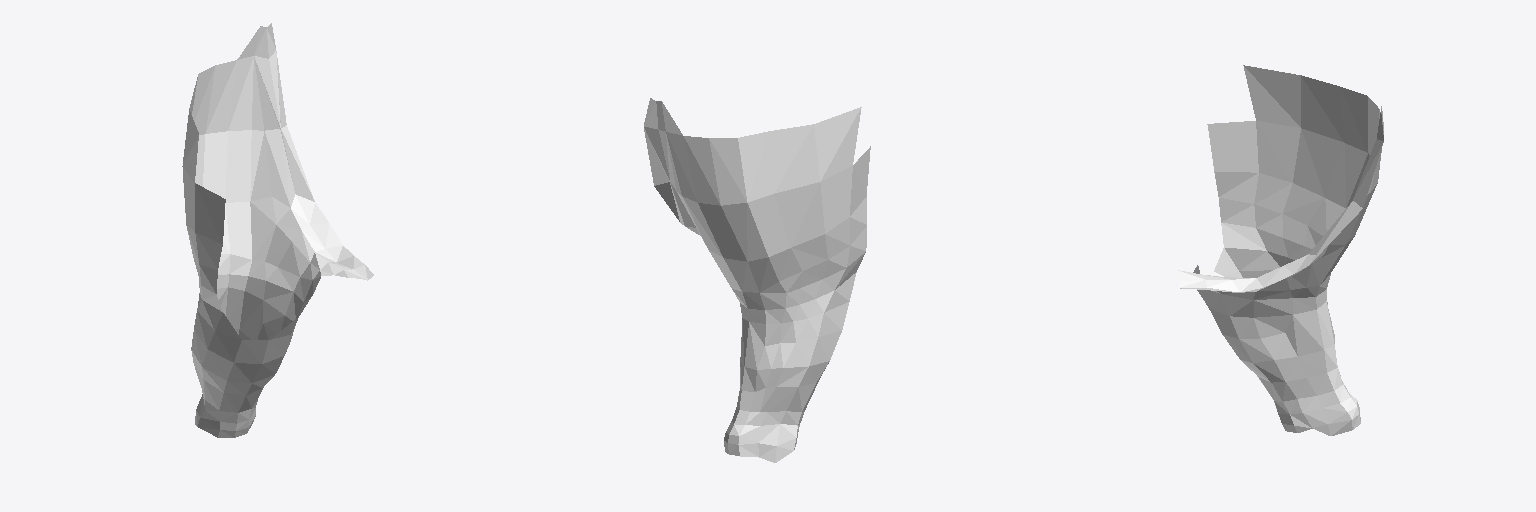
File: leg_rear_upper_right.obj
3 renders of one model, left to right at view 1: azimuth 30°, elevation 25°; view 2: azimuth 150°, elevation 25°; view 3: azimuth 270°, elevation 25°, orthographic.
Visible parts, largest first — view 1: horse; view 2: horse; view 3: horse.
Boxes of the visible parts, x1=… form: horse: x1=182, y1=23, x2=373, y2=437; horse: x1=644, y1=98, x2=870, y2=462; horse: x1=1176, y1=65, x2=1383, y2=435.
Bounding box in the file's own units: 15.95 × 36.29 × 19.09.